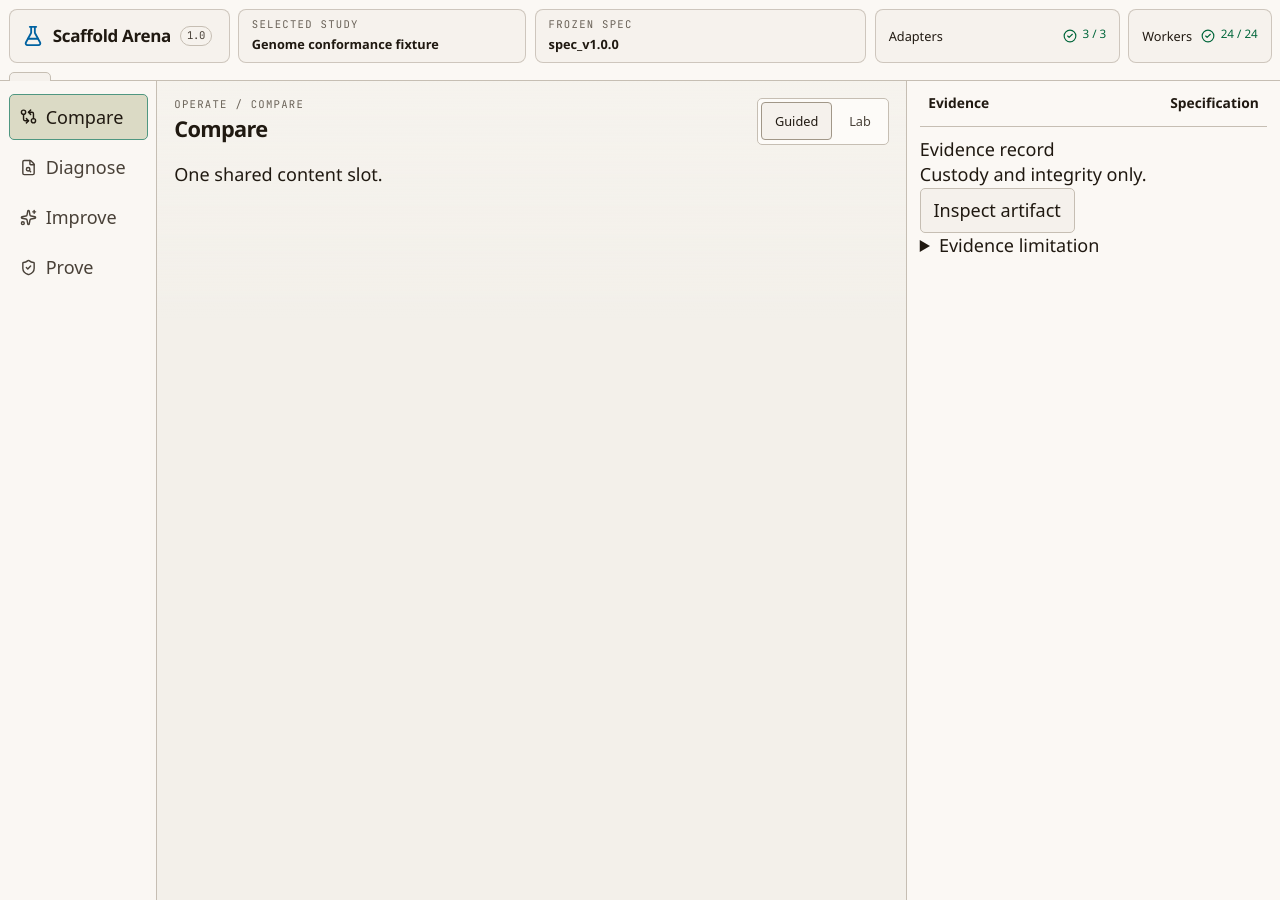
Test: WorkbenchShell › switches Guided and Lab over the same stage slot
Click the button "Lab" at (860, 121), box 835,102 -> 885,140
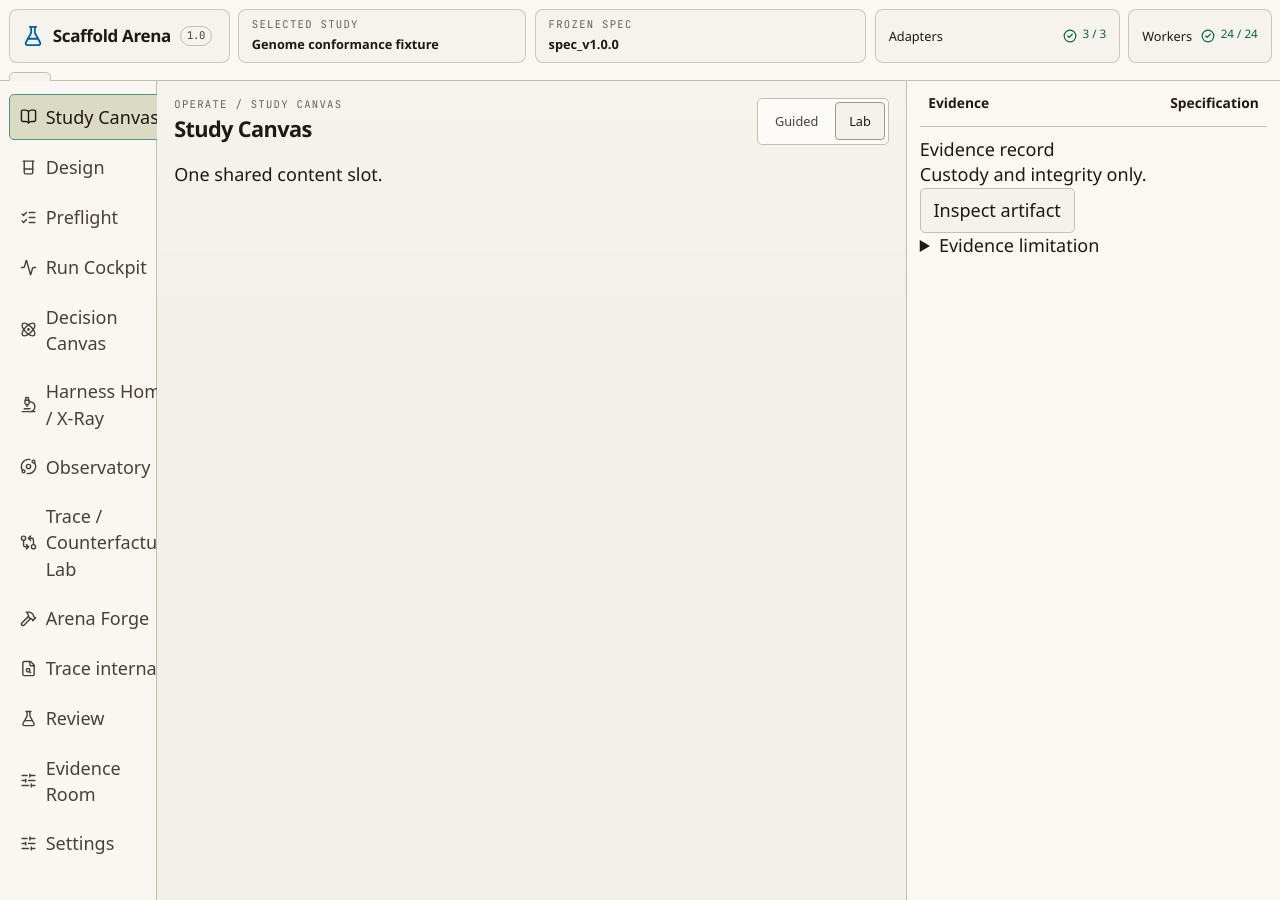
Check: the text "One shared content slot." is shown, box 174,163 -> 383,187
Check: the button "Design" is shown, box 8,144 -> 184,190
